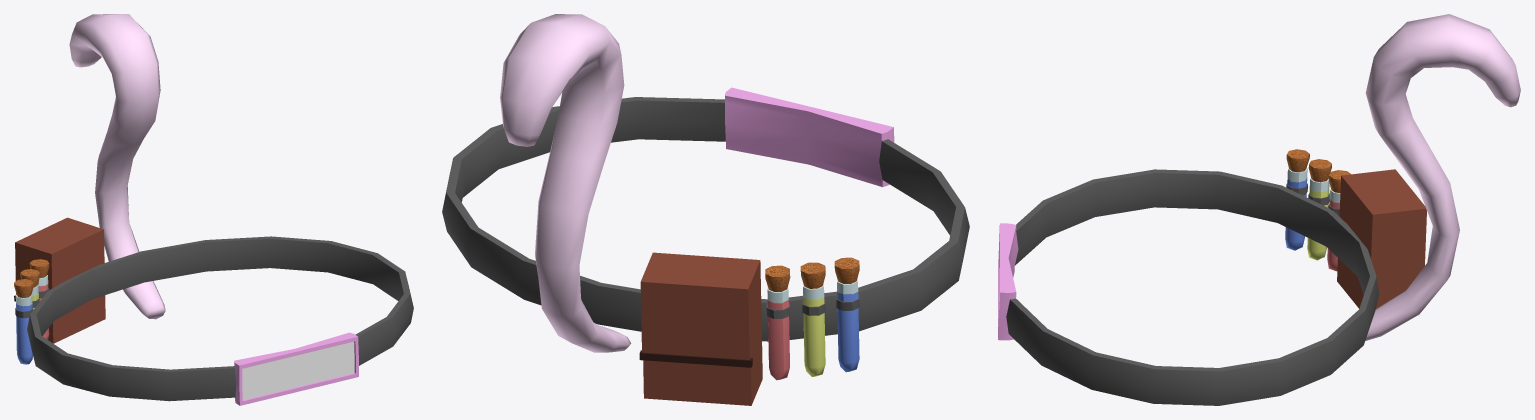
The model's file is 513_Belt_Pink.fbx.
The picture shows the model from 3 angles, left to right: view 1: azimuth 30°, elevation 25°; view 2: azimuth 150°, elevation 25°; view 3: azimuth 270°, elevation 25°; orthographic projection. The views are drawn at different scales.
Visible parts, largest first — view 1: Belt003; view 2: Belt003; view 3: Belt003.
Boxes of the visible parts, bbox=[...] form: Belt003: bbox=[14, 14, 413, 405]; Belt003: bbox=[442, 14, 969, 405]; Belt003: bbox=[998, 14, 1520, 405].
Bounding box in the file's own units: 200 × 149 × 217.
